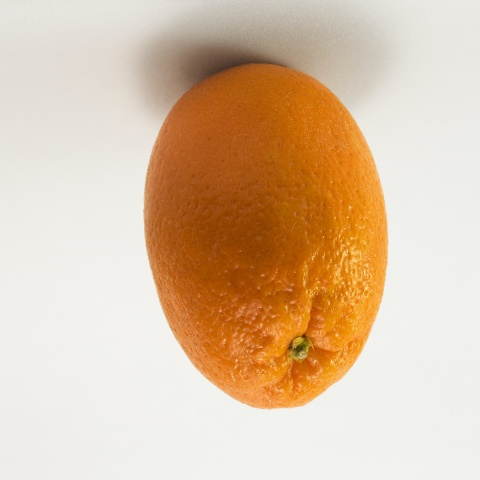orange: (70, 12, 439, 461)
